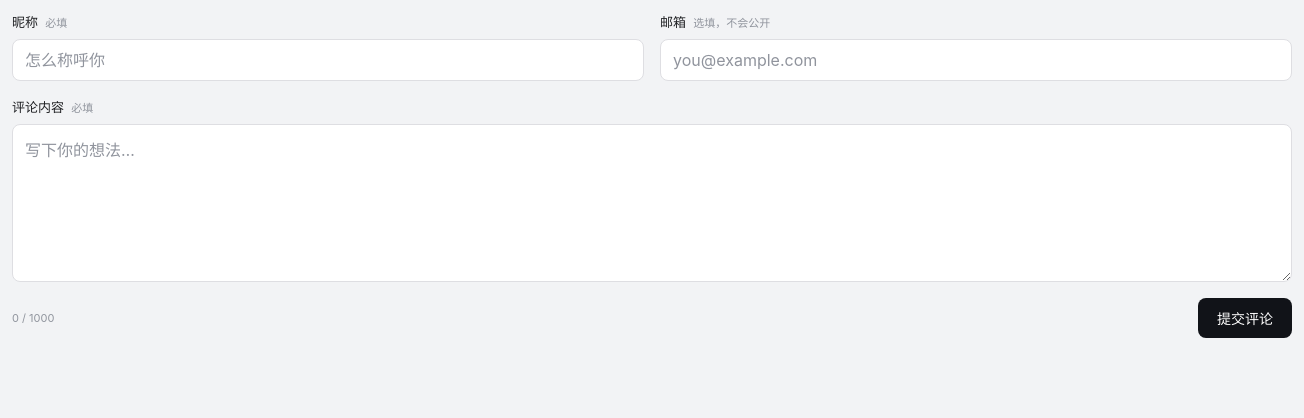
it: CommentForm › submits only the visitor fields and shows the pending-review message
Type "认真读者" into the field named "nickname" at (328, 60), box [12,39,644,81]
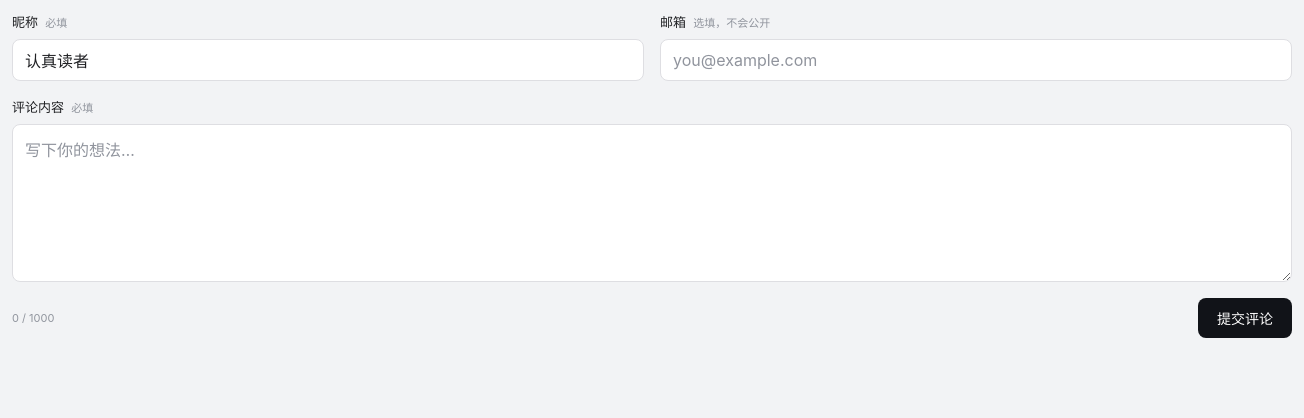
Type "reader@example.com" into the field named "email" at (976, 60), box [660,39,1292,81]
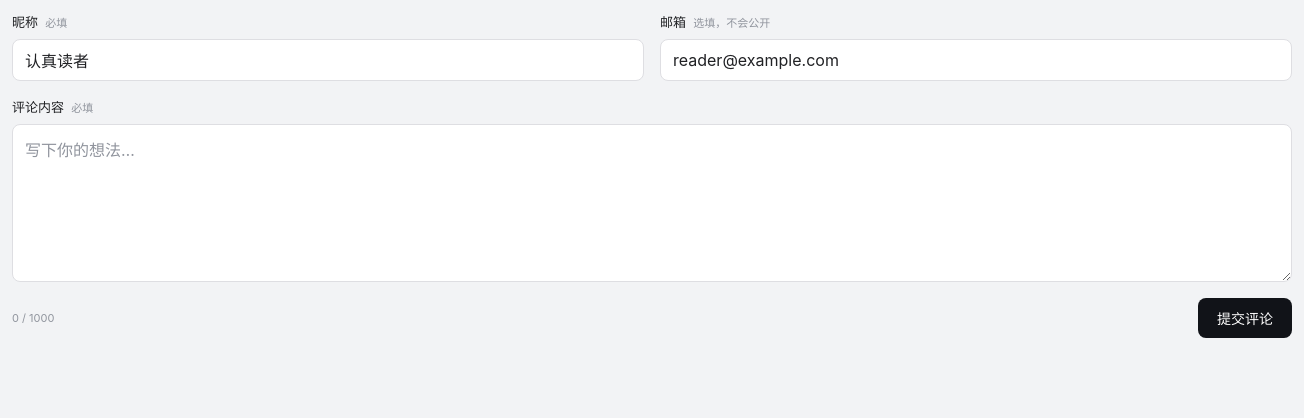
Type "很有启发。" into the text box named "content" at (652, 203), box [12,124,1292,282]
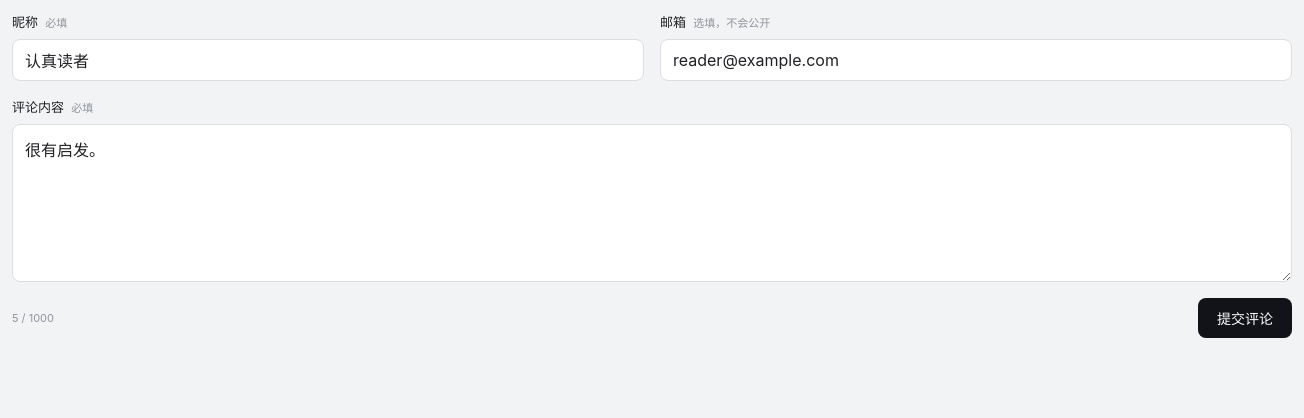
Submit the form
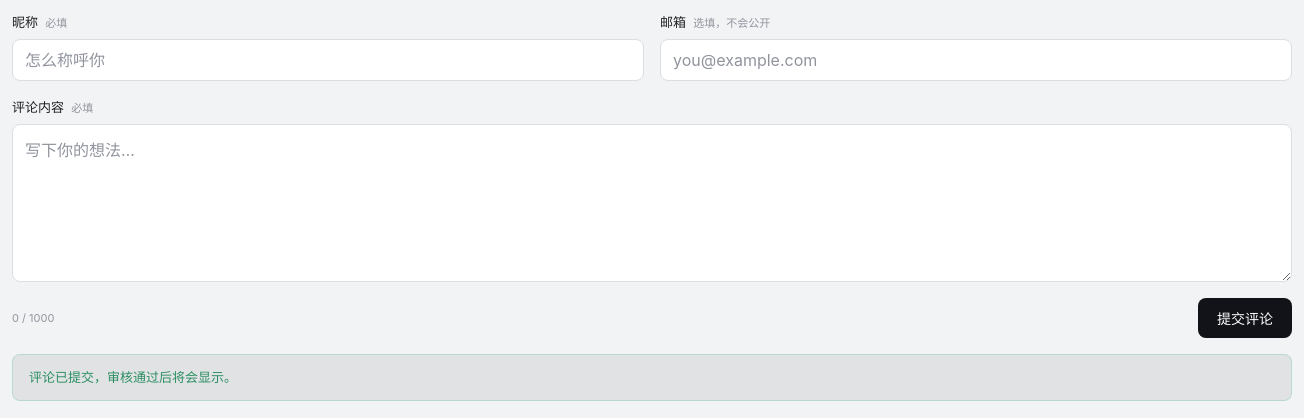
Check: the form shows "评论已提交，审核通过后将会显示。", box [29,369,237,385]
